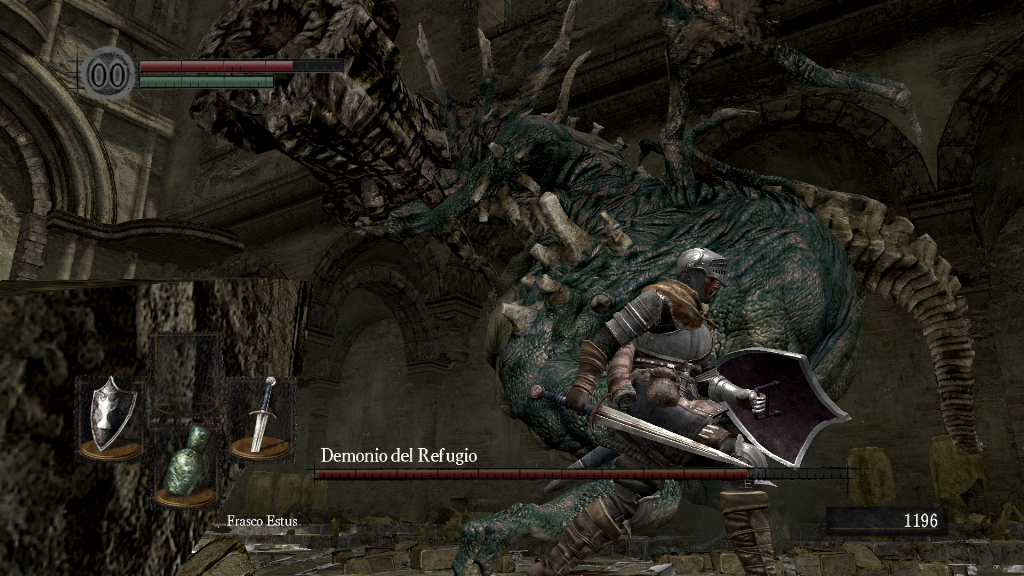asylumDemon: (186, 1, 987, 576)
bossHP: (314, 469, 847, 479)
health: (138, 58, 343, 71)
humanity: (80, 45, 136, 102)
player: (528, 249, 852, 576)
souls: (825, 506, 945, 536)
stamina: (138, 74, 274, 88)
